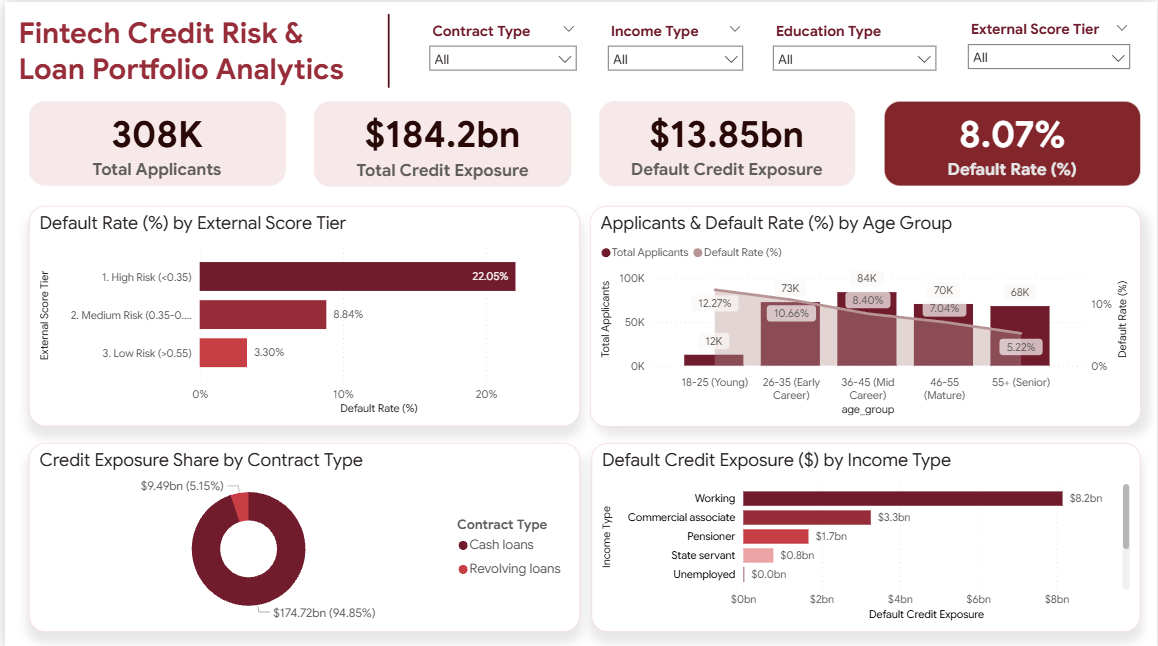

The page's visual inventory and layout, read from the dashboard file:
{"tool":"powerbi","page":{"name":"#1 Executive Credit Portfolio & Default Overview","canvas":[1280,720],"ordinal":0},"visuals":[{"type":"textbox","box":[10,9.7,397.7,90.8],"z":0},{"type":"slicer","fields":{"Values":["public vw_credit_portfolio_summary.name_contract_type"]},"box":[461.5,16.8,183.6,74.5],"z":1000},{"type":"slicer","fields":{"Values":["public vw_credit_portfolio_summary.name_income_type"]},"box":[660.6,16.8,170,74.5],"z":2000},{"type":"slicer","fields":{"Values":["public vw_credit_portfolio_summary.name_education_type"]},"box":[844.1,16.3,201.1,75.6],"z":3000},{"type":"slicer","fields":{"Values":["public vw_credit_portfolio_summary.ext_score_tier"]},"box":[1060.6,15,200,78.2],"z":4000},{"type":"shape","box":[408,13.1,36,82],"z":5000},{"type":"card","title":"TOTAL applicant","fields":{"Values":["_Measures.Total Credit Exposure"]},"box":[342.8,110,286.2,95],"z":6000},{"type":"card","title":"TOTAL applicant","fields":{"Values":["_Measures.Total Applicants"]},"box":[26.3,110.5,285,94],"z":7000},{"type":"card","title":"TOTAL applicant","fields":{"Values":["_Measures.Default Rate (%)"]},"box":[976.7,110.3,285.6,94.4],"z":8000},{"type":"card","title":"TOTAL applicant","fields":{"Values":["_Measures.Default Credit Exposure"]},"box":[660.6,110.3,284.4,94.4],"z":9000},{"type":"clusteredBarChart","title":"Default Rate (%) by External Score Tier","fields":{"Category":["public vw_credit_portfolio_summary.ext_score_tier"],"Y":["_Measures.Default Rate (%)"]},"box":[26.3,226,612.2,244.4],"z":10000},{"type":"lineClusteredColumnComboChart","title":"Applicants & Default Rate (%) by Age Group","fields":{"Category":["public vw_credit_portfolio_summary.age_group"],"Y":["_Measures.Total Applicants"],"Y2":["_Measures.Default Rate (%)"]},"box":[650.6,226,611.7,245],"z":11000},{"type":"clusteredBarChart","title":"Default Credit Exposure ($) by Income Type","fields":{"Category":["public vw_credit_portfolio_summary.name_income_type"],"Y":["_Measures.Default Credit Exposure"]},"box":[652.2,490,610,210],"z":12000},{"type":"donutChart","title":"Credit Exposure Share by Contract Type","fields":{"Category":["public vw_credit_portfolio_summary.name_contract_type"],"Y":["_Measures.Total Credit Exposure"]},"box":[26.3,490,612,210],"z":13000}]}

Visuals, with their boxes in screenshot pixels (x1, y1, x2, y2), scaled from the page's 1280x720 canvas onto the 1158x646 screenshot:
textbox: l=9, t=9, r=369, b=90
slicer - public vw_credit_portfolio_summary.name_contract_type: l=418, t=15, r=584, b=82
slicer - public vw_credit_portfolio_summary.name_income_type: l=598, t=15, r=751, b=82
slicer - public vw_credit_portfolio_summary.name_education_type: l=764, t=15, r=946, b=82
slicer - public vw_credit_portfolio_summary.ext_score_tier: l=960, t=13, r=1140, b=84
shape: l=369, t=12, r=402, b=85
"TOTAL applicant" card: l=310, t=99, r=569, b=184
"TOTAL applicant" card: l=24, t=99, r=282, b=183
"TOTAL applicant" card: l=884, t=99, r=1142, b=184
"TOTAL applicant" card: l=598, t=99, r=855, b=184
"Default Rate (%) by External Score Tier" clusteredBarChart: l=24, t=203, r=578, b=422
"Applicants & Default Rate (%) by Age Group" lineClusteredColumnComboChart: l=589, t=203, r=1142, b=423
"Default Credit Exposure ($) by Income Type" clusteredBarChart: l=590, t=440, r=1142, b=628
"Credit Exposure Share by Contract Type" donutChart: l=24, t=440, r=577, b=628
